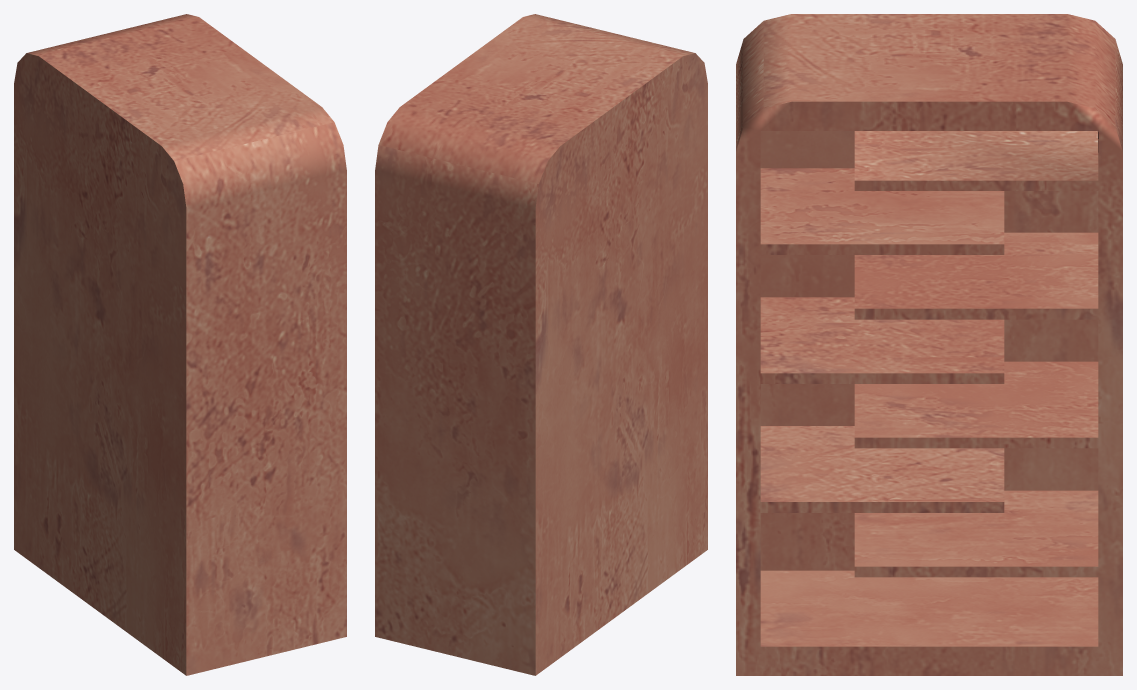
Rendered from cabinet.glb.
3 renders of one model, left to right at view 1: azimuth 30°, elevation 25°; view 2: azimuth 150°, elevation 25°; view 3: azimuth 270°, elevation 25°, orthographic. The views are drawn at different scales.
Parts seen in each view (by area): view 1: Cube; view 2: Cube; view 3: Cube.
Boxes of the visible parts, x1,y1,x2,y2 form: Cube: [14, 14, 346, 675]; Cube: [375, 14, 707, 675]; Cube: [736, 14, 1122, 675].
Bounding box in the file's own units: 0.6443 × 1.96 × 1.2.
Materials: 1 (1 with a texture image).
